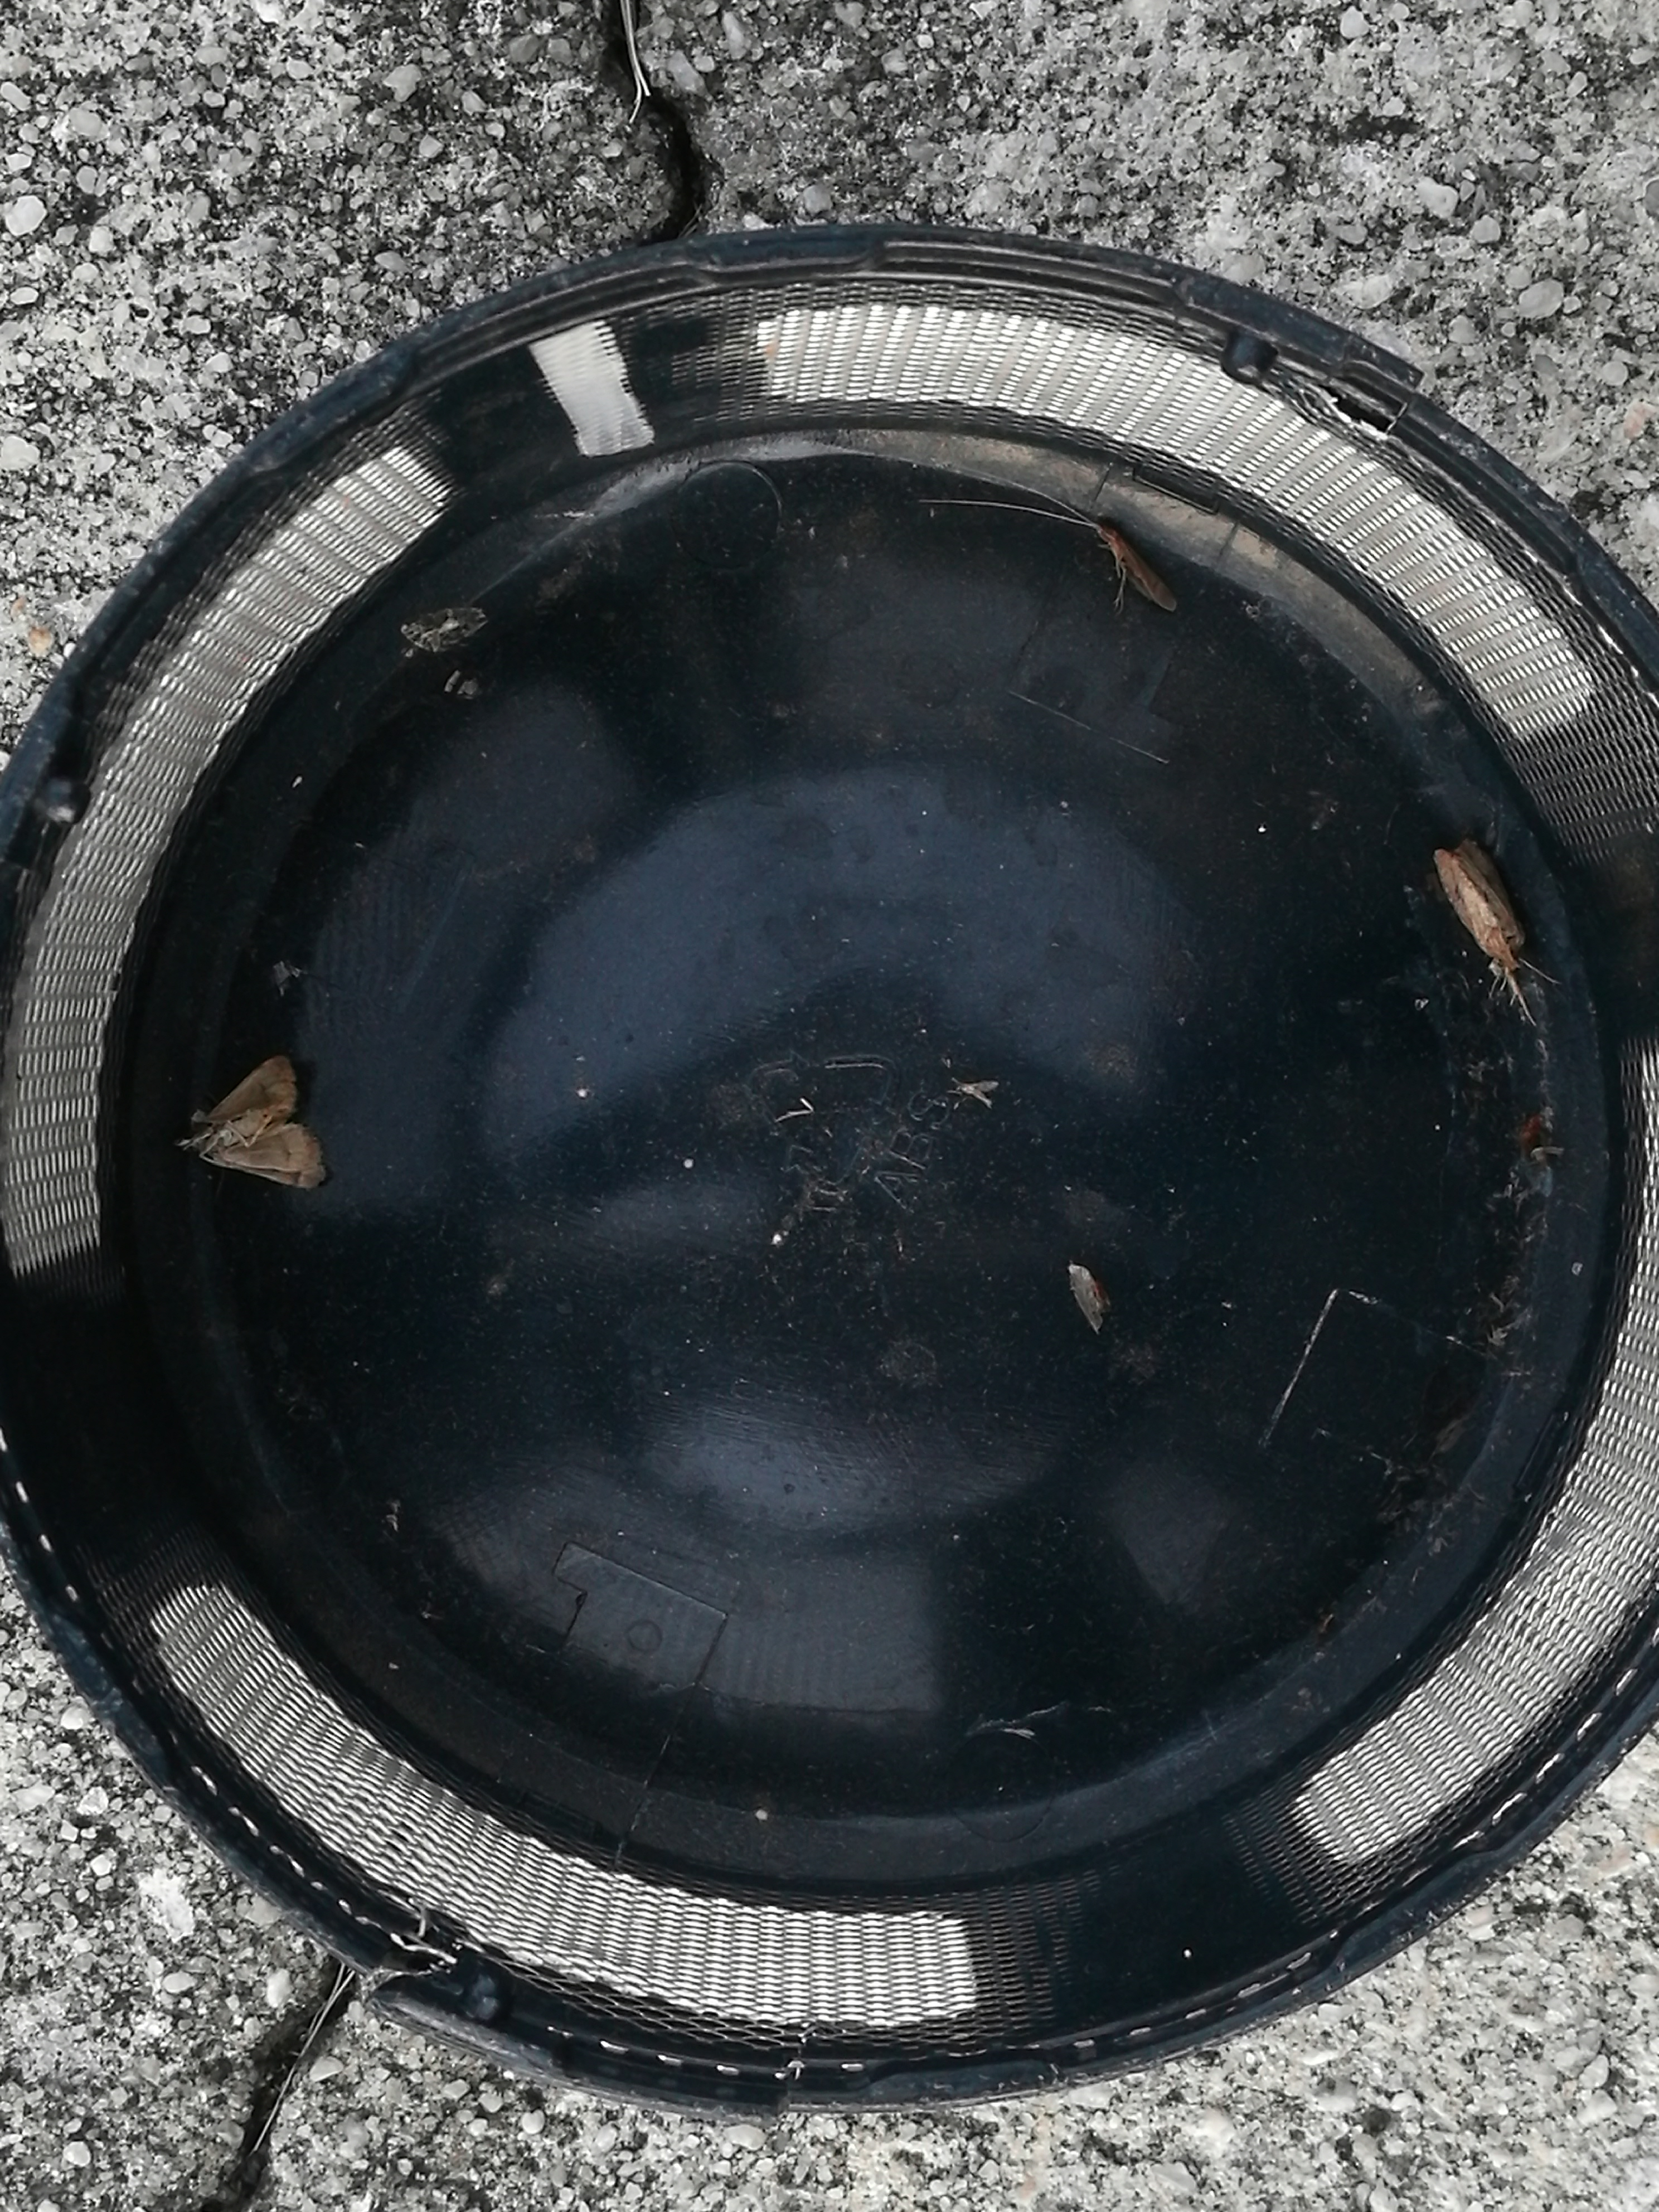mosquito: (1098, 526, 1171, 611)
moth: (186, 1061, 326, 1186), (1438, 838, 1525, 972)
